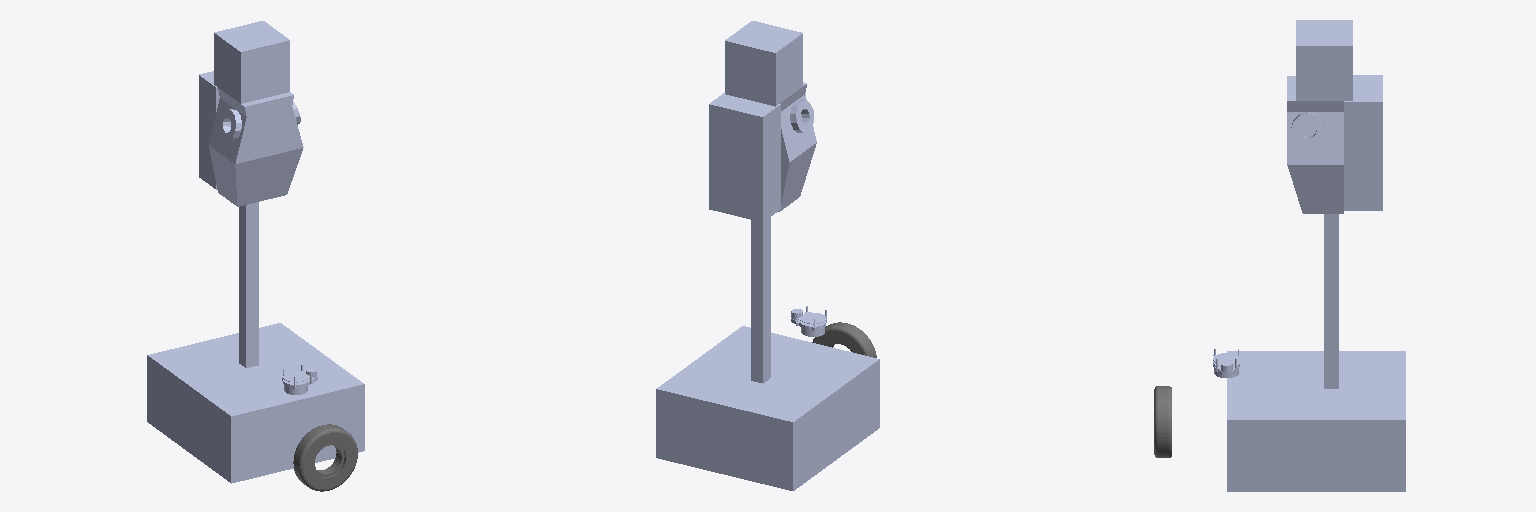
The robot description file, URDF, robot "mojiwon":
<?xml version="1.0" encoding="utf-8"?>
<!-- This URDF was automatically created by SolidWorks to URDF Exporter! Originally created by [author] ([email redacted]) 
     Commit Version: 1.6.0-4-g7f85cfe  Build Version: 1.6.7995.38578
     For more information, please see http://wiki.ros.org/sw_urdf_exporter -->
<robot
  name="mojiwon">
  <link
    name="base_link">
    <inertial>
      <origin
        xyz="-0.0482719461989101 0.000171308944523422 0.106246752193616"
        rpy="0 0 0" />
      <mass
        value="2.2553715976141" />
      <inertia
        ixx="0.00635085920555909"
        ixy="-6.39708504207861E-08"
        ixz="-1.23319294639748E-05"
        iyy="0.00747889776233451"
        iyz="-2.91661796929136E-07"
        izz="0.0126463141552135" />
    </inertial>
    <visual>
      <origin
        xyz="0 0 0"
        rpy="0 0 0" />
      <geometry>
        <mesh
          filename="package://mojiwon/meshes/base_link.STL" />
      </geometry>
      <material
        name="">
        <color
          rgba="0.792156862745098 0.819607843137255 0.933333333333333 1" />
      </material>
    </visual>
    <collision>
      <origin
        xyz="0 0 0"
        rpy="0 0 0" />
      <geometry>
        <mesh
          filename="package://mojiwon/meshes/base_link.STL" />
      </geometry>
    </collision>
  </link>
  <link
    name="left_link">
    <inertial>
      <origin
        xyz="-6.245E-16 -1.9429E-16 0.0235"
        rpy="0 0 0" />
      <mass
        value="1.2746" />
      <inertia
        ixx="0.0037408"
        ixy="-1.0842E-19"
        ixz="3.475E-18"
        iyy="0.0037408"
        iyz="-2.3431E-18"
        izz="0.0070516" />
    </inertial>
    <visual>
      <origin
        xyz="0 0 0"
        rpy="0 0 0" />
      <geometry>
        <mesh
          filename="package://mojiwon/meshes/left_link.STL" />
      </geometry>
      <material
        name="">
        <color
          rgba="0.50196 0.49804 0.49804 1" />
      </material>
    </visual>
    <collision>
      <origin
        xyz="0 0 0"
        rpy="0 0 0" />
      <geometry>
        <mesh
          filename="package://mojiwon/meshes/left_link.STL" />
      </geometry>
    </collision>
  </link>
  <joint
    name="left_joint"
    type="continuous">
    <origin
      xyz="-0.0010088 0.14325 0.097944"
      rpy="-1.5708 -0.85294 0" />
    <parent
      link="base_link" />
    <child
      link="left_link" />
    <axis
      xyz="0 0 1" />
    <limit
      effort="1"
      velocity="1" />
  </joint>
  <link
    name="right_link">
    <inertial>
      <origin
        xyz="-2.43403387722996E-15 -1.33226762955019E-15 -0.0234999999865184"
        rpy="0 0 0" />
      <mass
        value="1.27462152376014" />
      <inertia
        ixx="0.00374082490658473"
        ixy="-4.2351647362715E-22"
        ixz="3.1320924800035E-18"
        iyy="0.00374082490658472"
        iyz="3.5349213566865E-18"
        izz="0.00705158889265268" />
    </inertial>
    <visual>
      <origin
        xyz="0 0 0"
        rpy="0 0 0" />
      <geometry>
        <mesh
          filename="package://mojiwon/meshes/right_link.STL" />
      </geometry>
      <material
        name="">
        <color
          rgba="0.501960784313725 0.498039215686275 0.498039215686275 1" />
      </material>
    </visual>
    <collision>
      <origin
        xyz="0 0 0"
        rpy="0 0 0" />
      <geometry>
        <mesh
          filename="package://mojiwon/meshes/right_link.STL" />
      </geometry>
    </collision>
  </link>
  <joint
    name="right_joint"
    type="continuous">
    <origin
      xyz="-0.0010088 -0.14275 0.097944"
      rpy="1.5708 -0.00064676 3.1416" />
    <parent
      link="base_link" />
    <child
      link="right_link" />
    <axis
      xyz="0 0 1" />
    <limit
      effort="1"
      velocity="1" />
  </joint>
  <link
    name="lidar_link">
    <inertial>
      <origin
        xyz="0.00829409957033963 -3.05114006976526E-13 0.0107011422227911"
        rpy="0 0 0" />
      <mass
        value="0.146695752131392" />
      <inertia
        ixx="6.22721120792819E-05"
        ixy="1.74376403416964E-15"
        ixz="1.88658076337422E-05"
        iyy="0.000109673997590948"
        iyz="-6.9401490414588E-16"
        izz="0.000125682524275729" />
    </inertial>
    <visual>
      <origin
        xyz="0 0 0"
        rpy="0 0 0" />
      <geometry>
        <mesh
          filename="package://mojiwon/meshes/lidar_link.STL" />
      </geometry>
      <material
        name="">
        <color
          rgba="0.792156862745098 0.819607843137255 0.933333333333333 1" />
      </material>
    </visual>
    <collision>
      <origin
        xyz="0 0 0"
        rpy="0 0 0" />
      <geometry>
        <mesh
          filename="package://mojiwon/meshes/lidar_link.STL" />
      </geometry>
    </collision>
  </link>
  <joint
    name="lidar_joint"
    type="fixed">
    <origin
      xyz="-0.0010088 0.00025196 0.27194"
      rpy="3.14159 0 0" />
    <parent
      link="base_link" />
    <child
      link="lidar_link" />
    <axis
      xyz="3.14159 0 0" />
  </joint>
</robot>

--- Render facts (derived) ---
The picture shows the robot from 3 angles, left to right: view 1: azimuth 30°, elevation 25°; view 2: azimuth 150°, elevation 25°; view 3: azimuth 270°, elevation 25°; orthographic projection.
Robot: mojiwon — 4 links, 3 joints (2 continuous, 1 fixed); root link base_link; default pose: all joints at 0.
Visible links, largest first — view 1: base_link, right_link, lidar_link; view 2: base_link, right_link, lidar_link; view 3: base_link, right_link, lidar_link.
Boxes of the visible links, box(x1,y1,x2,y2) form: base_link: box(147, 21, 364, 483); right_link: box(293, 424, 357, 491); lidar_link: box(282, 365, 317, 394); base_link: box(656, 21, 879, 490); right_link: box(812, 322, 876, 357); lidar_link: box(791, 306, 826, 336); base_link: box(1227, 20, 1405, 491); right_link: box(1154, 386, 1171, 457); lidar_link: box(1213, 349, 1239, 377).
Size in the robot's own frame: 0.43 by 0.6598 by 1.23 metres.
Meshes: 4 distinct files referenced, 4 mesh visuals loaded (4 binary STL).
